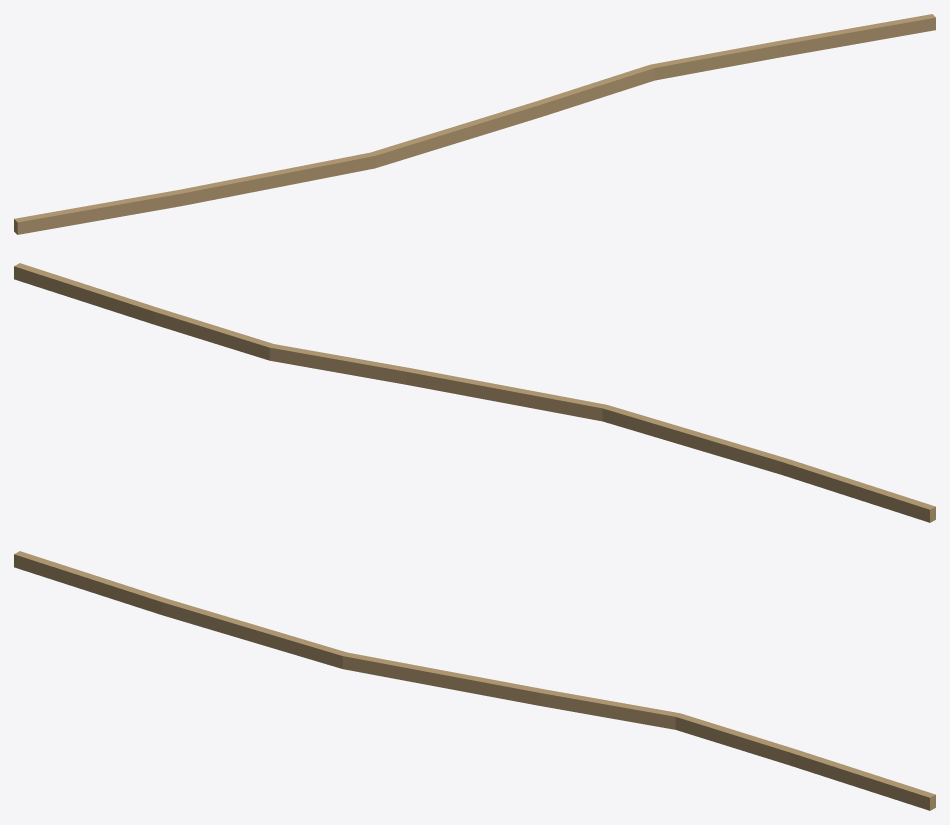
The picture shows the model from 3 angles, top to bottom: view 1: azimuth 30°, elevation 25°; view 2: azimuth 150°, elevation 25°; view 3: azimuth 330°, elevation 25°; orthographic projection. The views are drawn at different scales.
Parts seen in each view (by area): view 1: 外缘土纸层_低起伏边.001; view 2: 外缘土纸层_低起伏边.001; view 3: 外缘土纸层_低起伏边.001.
Part boxes in pixels (box(x1,y1,x2,y2)): 外缘土纸层_低起伏边.001: box(14, 14, 935, 234); 外缘土纸层_低起伏边.001: box(14, 263, 935, 522); 外缘土纸层_低起伏边.001: box(14, 551, 935, 810).
Bounding box in the file's own units: 1.8 × 0.024 × 0.0895.
